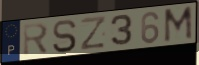3: (108, 14, 135, 47)
6: (140, 10, 161, 46)
M: (163, 5, 194, 45)
R: (22, 21, 51, 58)
S: (51, 18, 78, 54)
Z: (79, 15, 107, 53)
